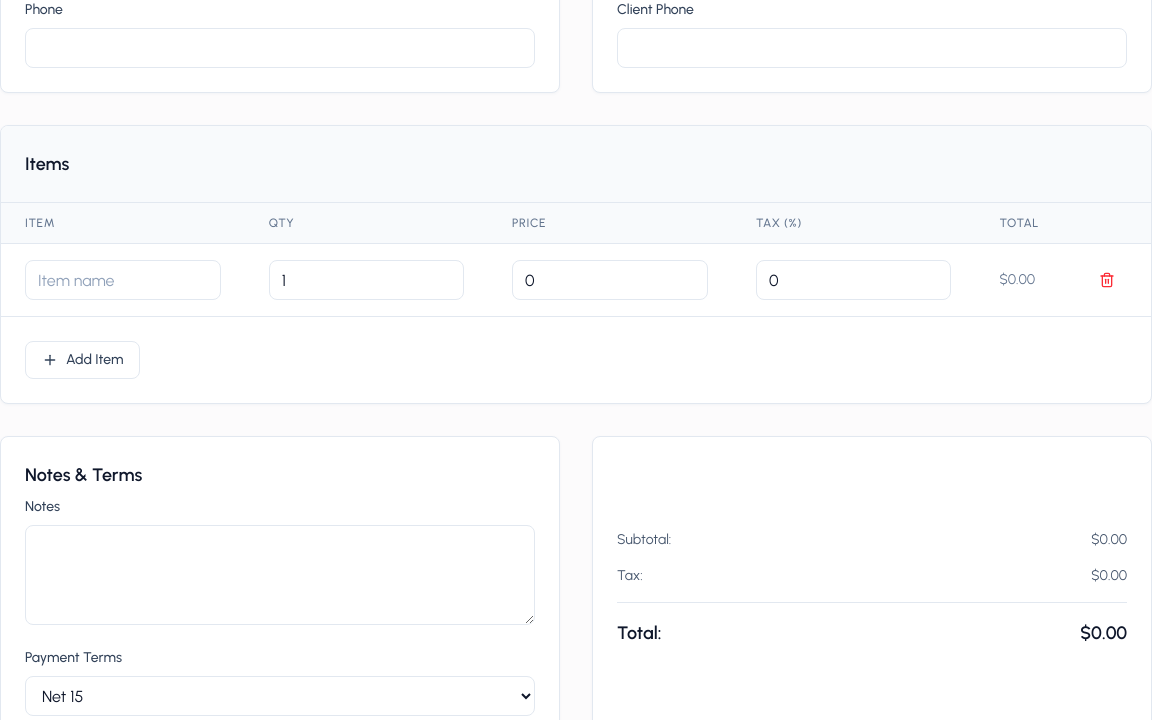
Test: CreateInvoice Component › should allow adding a new item row
This screenshot has width=1152, height=720.
(page scrolled)
Click the button "Add Item": (83, 360) 25,341 -> 140,379
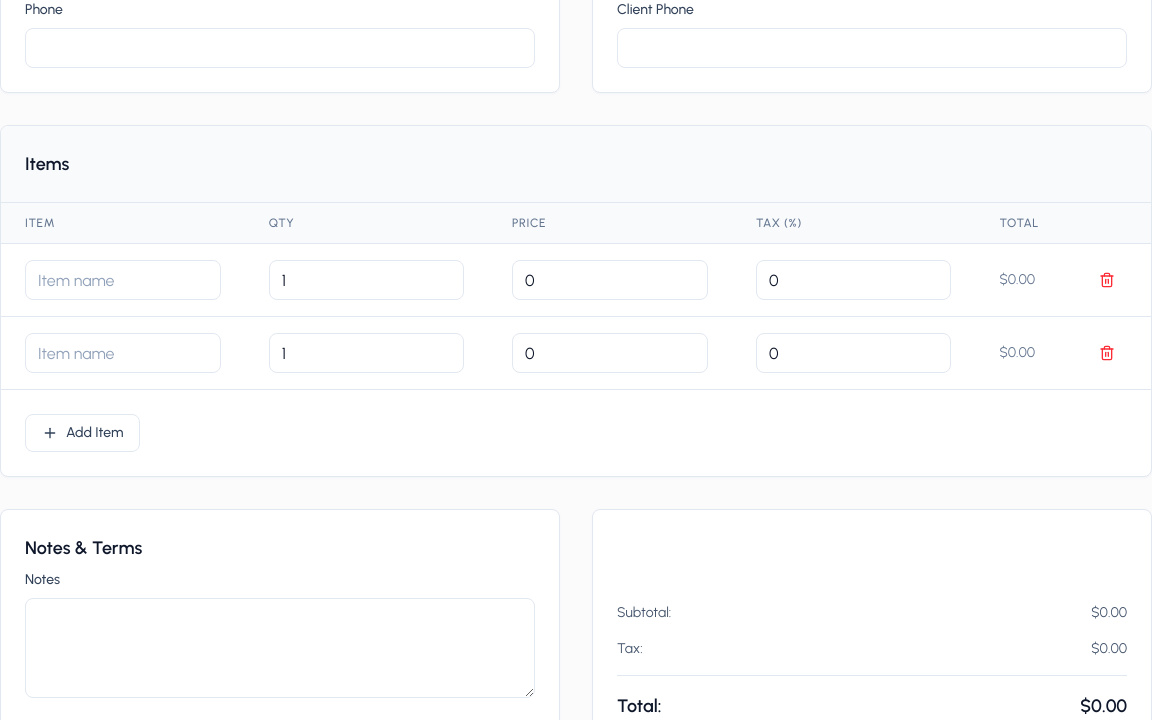
Check: the number of number fields with placeholder "0.00" is 2, box 512,260 -> 708,300; 512,333 -> 708,373
